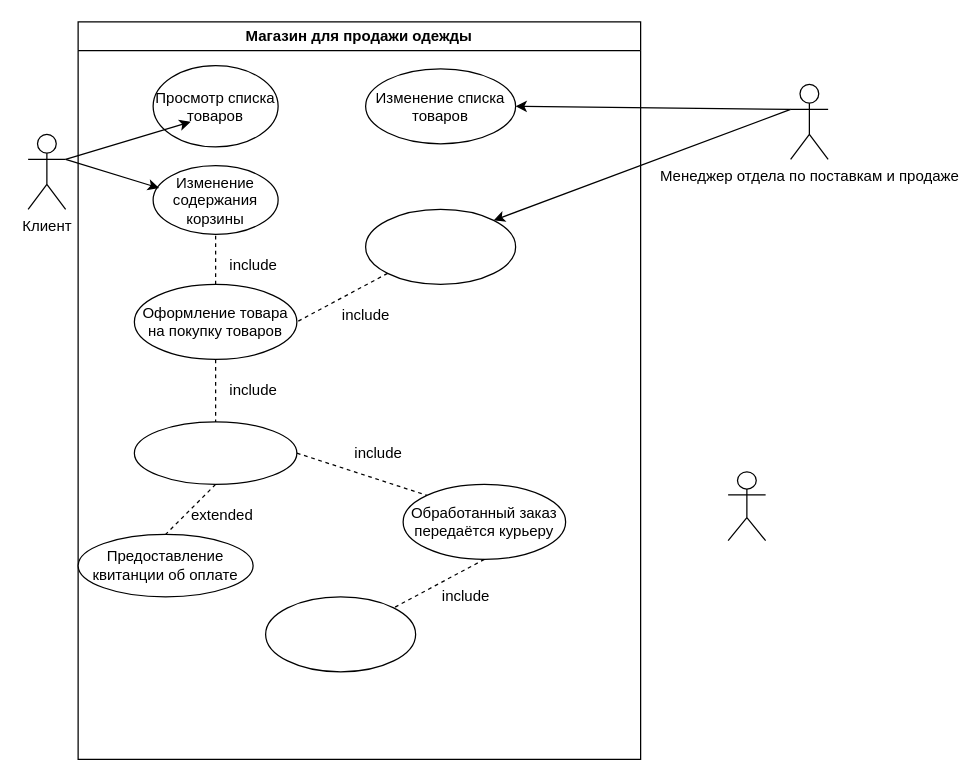
This 980x781 diagram has some shape labels left out. Each missing label, with the centre of its shape:
Заказ доставляется клиенту: the point at 340,634
Оплата выбранного товара: the point at 215,452
Получение и обработка заказа: the point at 440,246
Служба доставки: the point at 746,506
